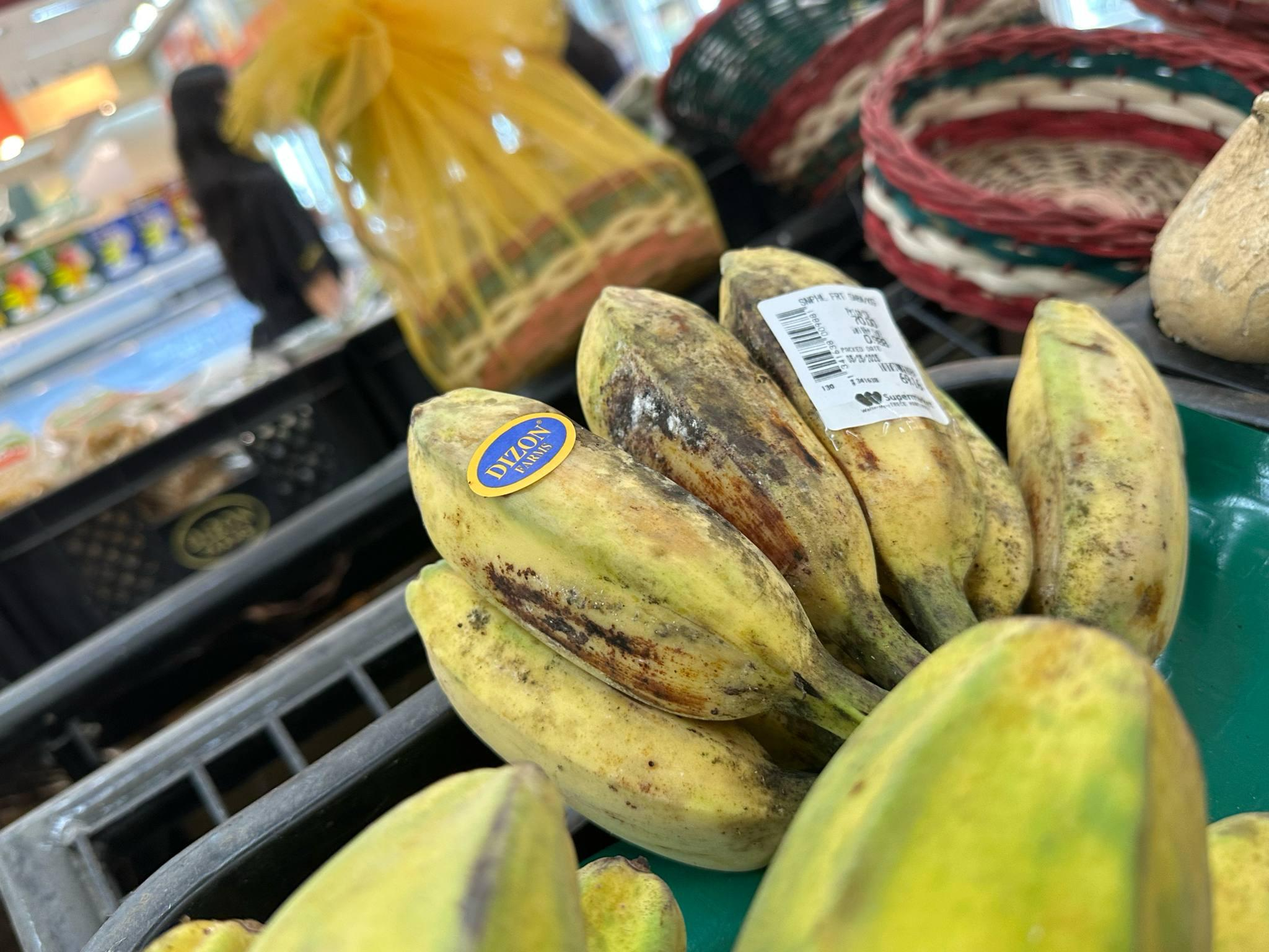underripe: (403, 244, 1190, 873)
